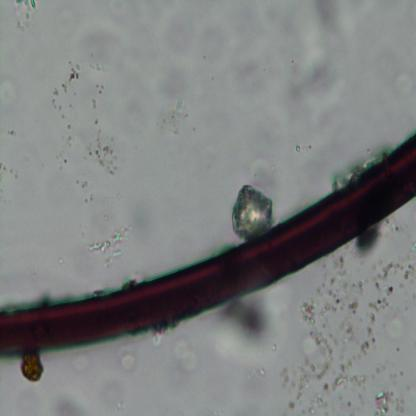Background material: (280, 219, 416, 416), (220, 300, 274, 363), (278, 43, 325, 94), (54, 63, 87, 132), (235, 188, 275, 242), (82, 132, 125, 180), (88, 224, 138, 263), (245, 146, 280, 198), (308, 0, 344, 46), (233, 66, 268, 101), (12, 1, 44, 38), (20, 354, 47, 392), (160, 102, 190, 136), (172, 337, 198, 376), (370, 391, 408, 416), (56, 393, 91, 416), (112, 341, 138, 371), (54, 139, 74, 168), (396, 67, 413, 101), (5, 128, 15, 138), (293, 143, 302, 153)
Microfibre: (0, 131, 416, 364)
